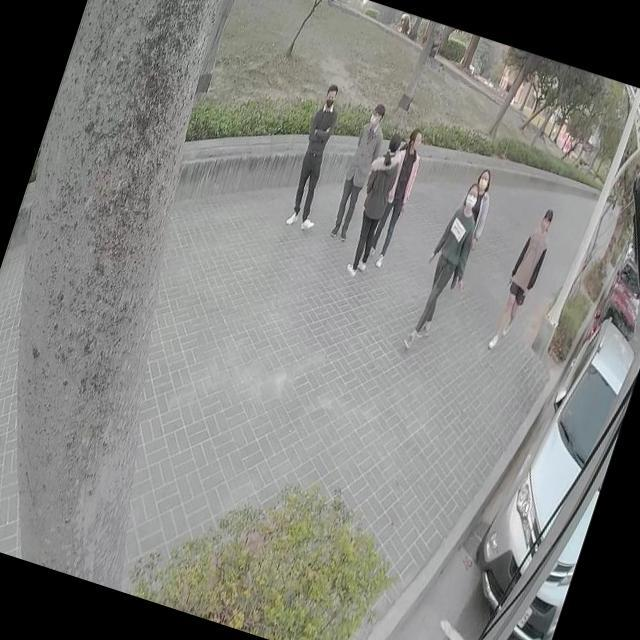person: (398, 173, 494, 360), (336, 120, 416, 284), (483, 201, 562, 360), (278, 78, 349, 232), (366, 122, 431, 268), (326, 100, 390, 242), (440, 161, 506, 295)
